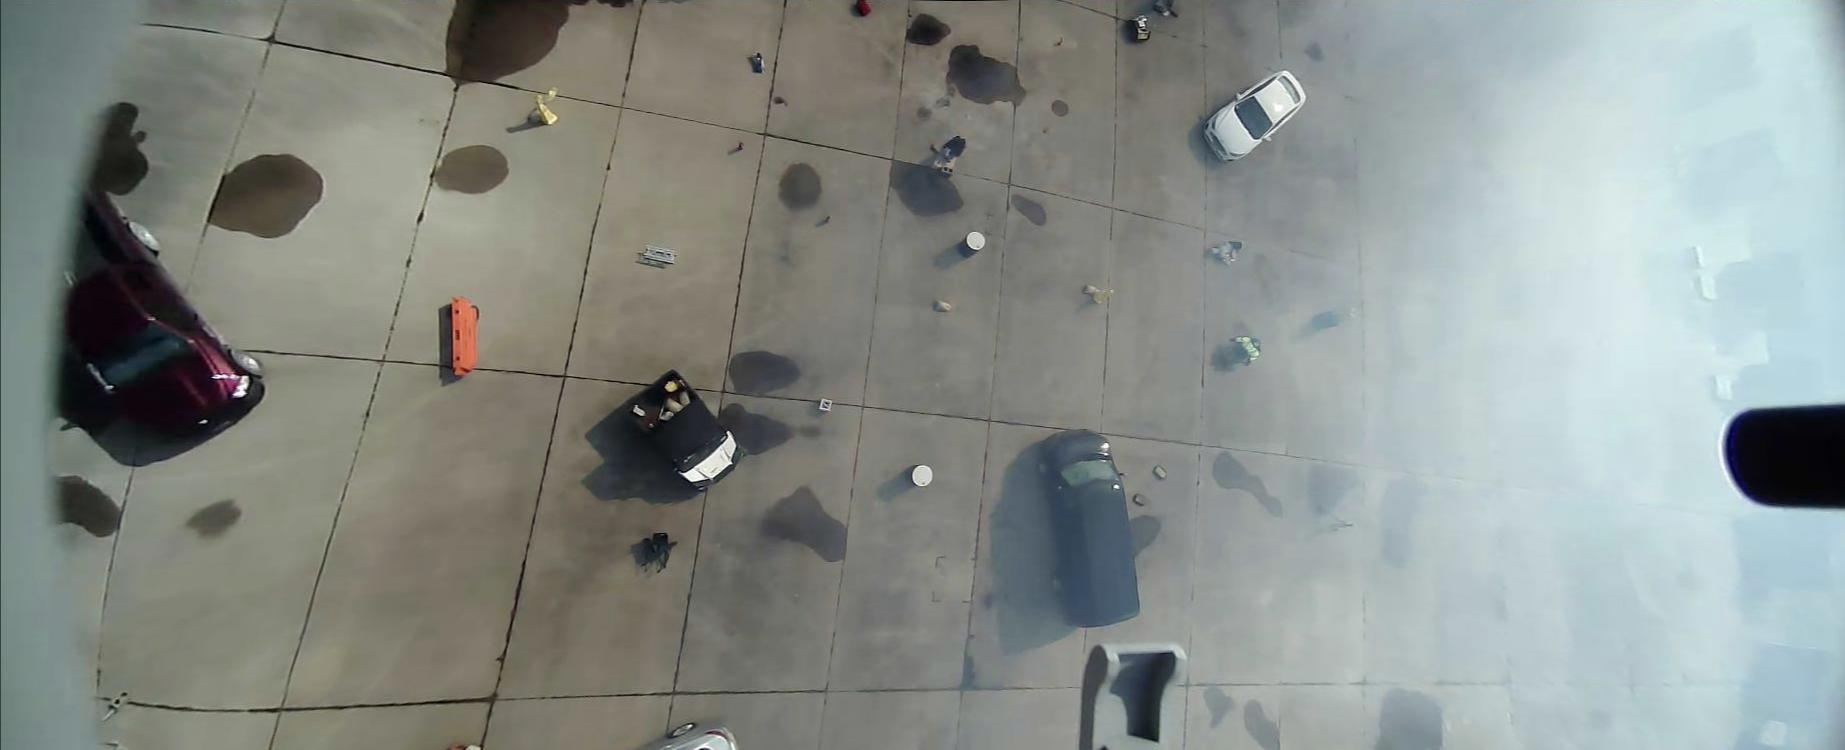vehicle: (52, 161, 264, 449), (1032, 429, 1141, 628), (621, 369, 748, 492), (1201, 69, 1306, 162), (635, 722, 739, 749)
